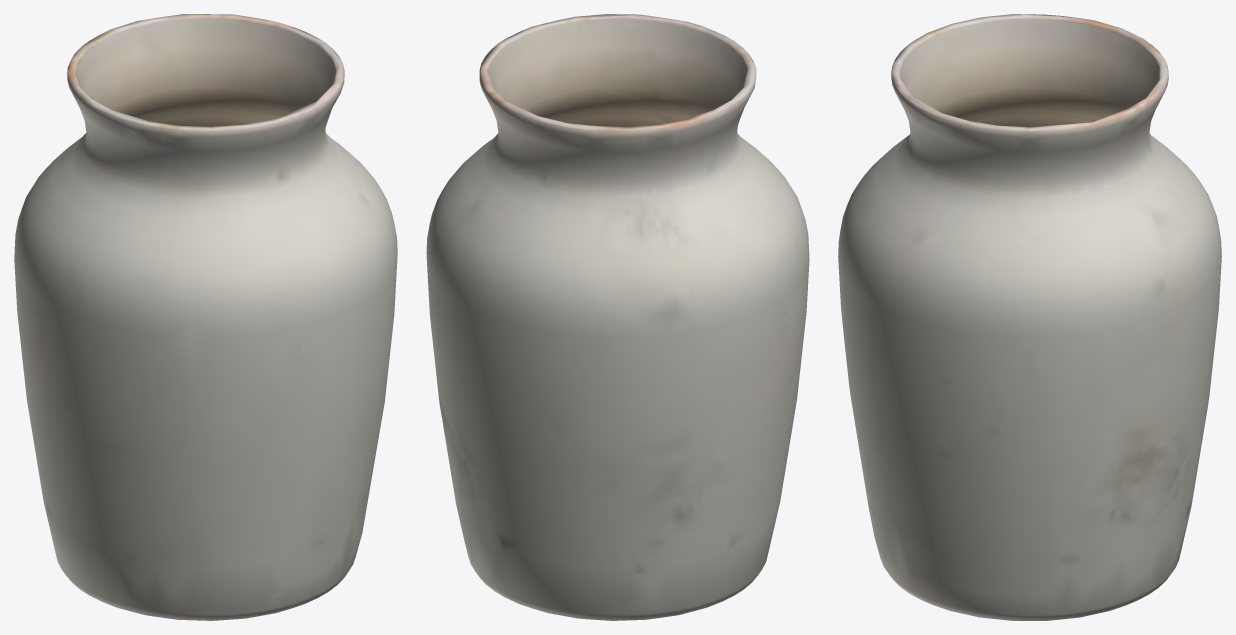
The model's file is vaso-a.glb.
3 renders of one model, left to right at view 1: azimuth 30°, elevation 25°; view 2: azimuth 150°, elevation 25°; view 3: azimuth 270°, elevation 25°, orthographic.
Visible parts, largest first — view 1: ceramic_vase_02; view 2: ceramic_vase_02; view 3: ceramic_vase_02.
Part boxes in pixels (x1=…): ceramic_vase_02: x1=14, y1=14, x2=397, y2=620; ceramic_vase_02: x1=426, y1=14, x2=809, y2=620; ceramic_vase_02: x1=838, y1=14, x2=1221, y2=620.
Bounding box in the file's own units: 0.2184 × 0.3091 × 0.2184.
1 material, 1 textured.
